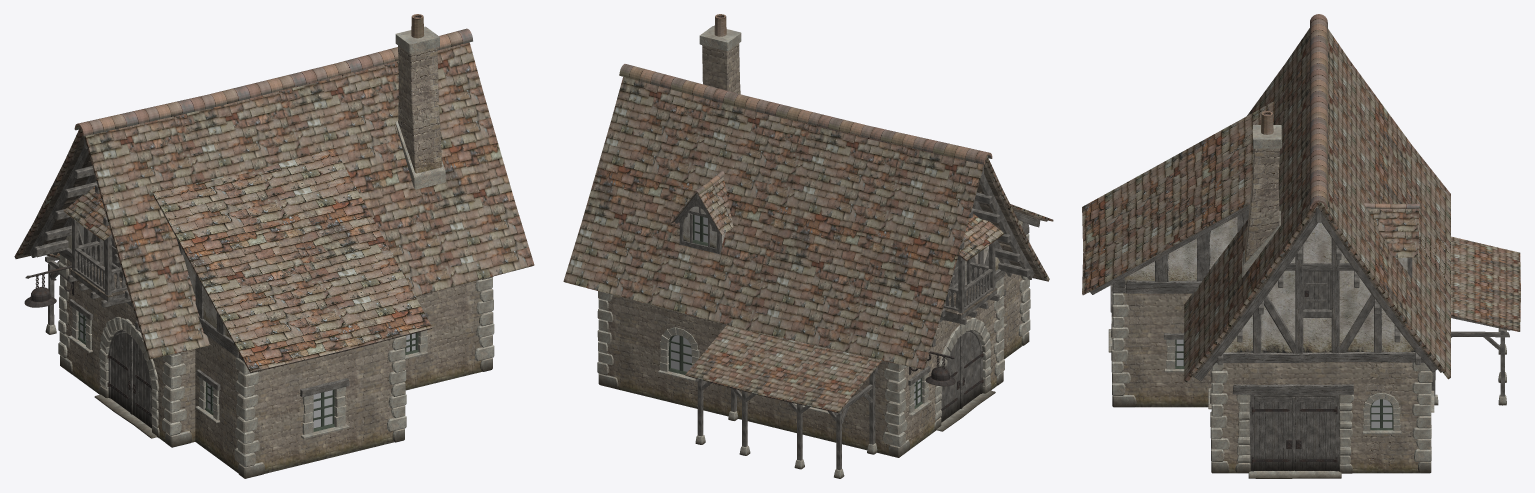
Rendered from 5_Village.obj.
The picture shows the model from 3 angles, left to right: view 1: azimuth 30°, elevation 25°; view 2: azimuth 150°, elevation 25°; view 3: azimuth 270°, elevation 25°; orthographic projection. The views are drawn at different scales.
Visible parts, largest first — view 1: RoofLow3, Addition, LongBase003, Chimney4, BalconySmall2, Sign2, AwningGround001; view 2: RoofLow3, LongBase003, AwningGround001, BalconySmall2, DormerSmall1, Addition, Chimney4, Sign2; view 3: RoofLow3, Addition, LongBase003, AwningGround001, Chimney4, DormerSmall1.
Part boxes in pixels (x1,y1,x2,y2): RoofLow3: [14, 28, 534, 359]; Addition: [152, 147, 432, 478]; LongBase003: [58, 254, 494, 447]; Chimney4: [395, 14, 446, 189]; BalconySmall2: [63, 187, 130, 307]; Sign2: [24, 265, 74, 307]; AwningGround001: [45, 253, 59, 334]; RoofLow3: [563, 64, 1049, 369]; LongBase003: [597, 277, 1004, 457]; AwningGround001: [685, 325, 881, 478]; BalconySmall2: [940, 213, 1004, 324]; DormerSmall1: [671, 171, 733, 254]; Addition: [1003, 204, 1053, 359]; Chimney4: [699, 14, 741, 94]; Sign2: [909, 351, 955, 386]; RoofLow3: [1184, 14, 1450, 382]; Addition: [1082, 101, 1274, 407]; LongBase003: [1208, 362, 1434, 478]; AwningGround001: [1431, 236, 1520, 405]; Chimney4: [1242, 111, 1281, 277]; DormerSmall1: [1364, 203, 1419, 277].
Size of the model in its own units: 195 by 162 by 190.
51 materials, 47 textured.
